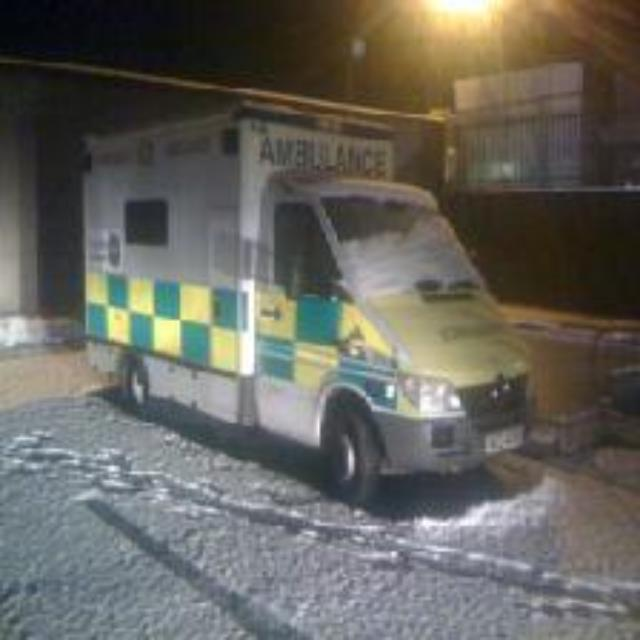emergency: (70, 118, 538, 474)
